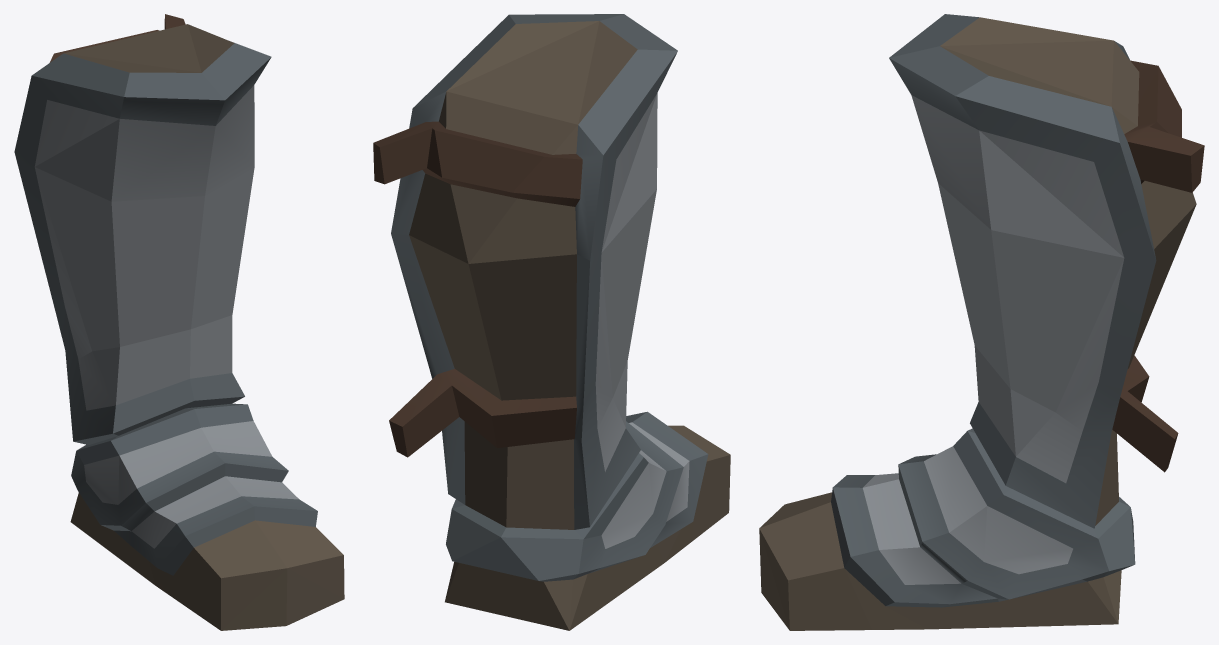
The model's file is Chr_LegRight_Male_16_Static.fbx.
3 views of the same model, side by side, from view 1: azimuth 30°, elevation 25°; view 2: azimuth 150°, elevation 25°; view 3: azimuth 270°, elevation 25° (orthographic). The views are drawn at different scales.
Parts seen in each view (by area): view 1: Chr_LegRight_Male_16_Static; view 2: Chr_LegRight_Male_16_Static; view 3: Chr_LegRight_Male_16_Static.
Part boxes in pixels (box(x1,y1,x2,y2)): Chr_LegRight_Male_16_Static: box(14, 14, 344, 630); Chr_LegRight_Male_16_Static: box(373, 14, 730, 630); Chr_LegRight_Male_16_Static: box(759, 14, 1204, 630).
Size of the model in its own units: 0.1582 by 0.404 by 0.2994.
